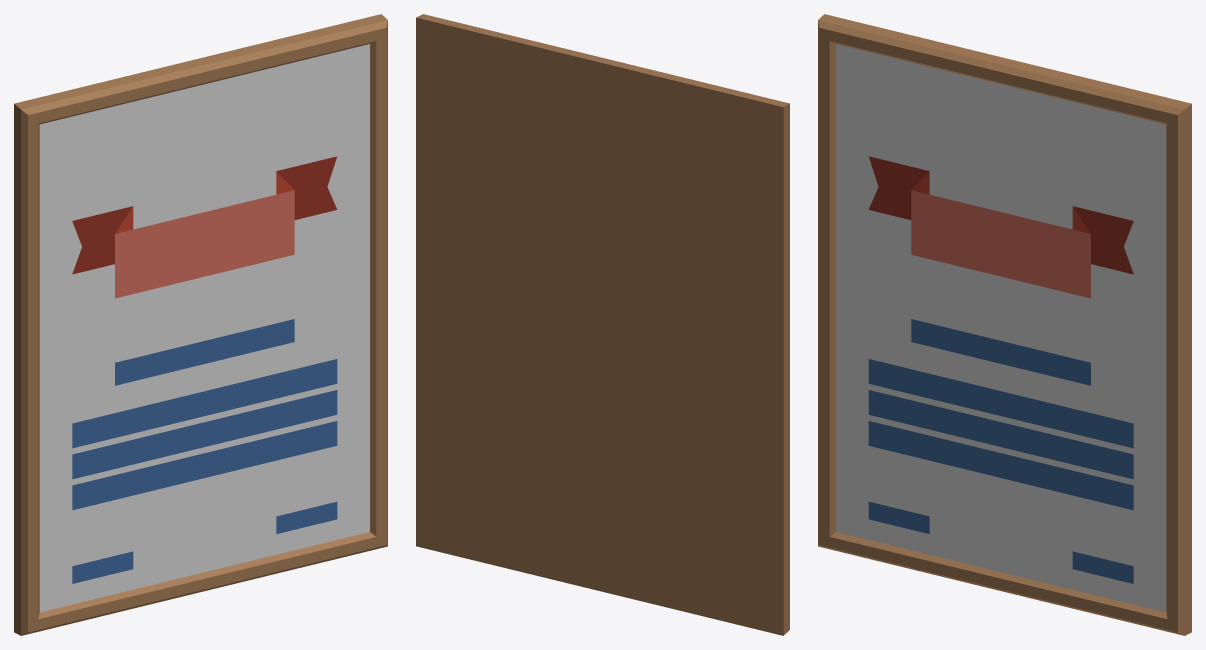
Rendered from SM_Int_WallCertificate01_1.obj.
The picture shows the model from 3 angles, left to right: view 1: azimuth 30°, elevation 25°; view 2: azimuth 150°, elevation 25°; view 3: azimuth 330°, elevation 25°; orthographic projection.
Parts seen in each view (by area): view 1: SM_Int_WallCertificate01_1_MI_AtlasSchool01A; view 2: SM_Int_WallCertificate01_1_MI_AtlasSchool01A; view 3: SM_Int_WallCertificate01_1_MI_AtlasSchool01A.
Part boxes in pixels (left/top/right/bottom): SM_Int_WallCertificate01_1_MI_AtlasSchool01A: left=14, top=14, right=387, bottom=635; SM_Int_WallCertificate01_1_MI_AtlasSchool01A: left=416, top=14, right=789, bottom=635; SM_Int_WallCertificate01_1_MI_AtlasSchool01A: left=818, top=14, right=1191, bottom=635.
Bounding box in the file's own units: 0.4 × 0.55 × 0.0179.
Materials: 1 (1 with a texture image).
